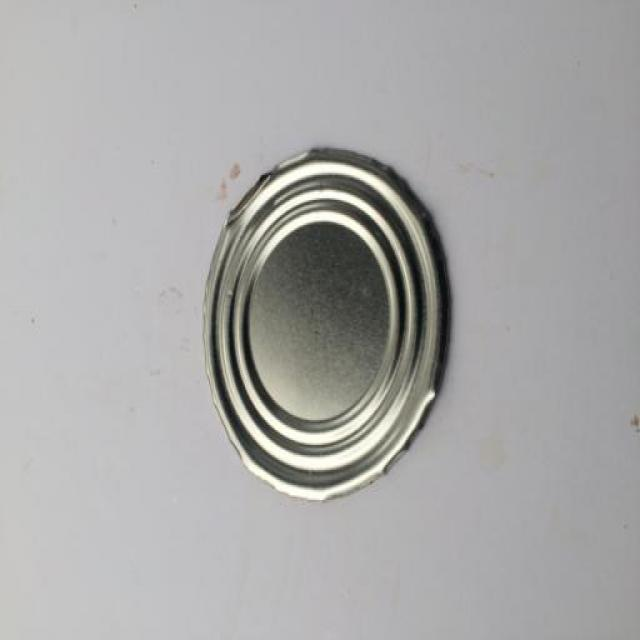metel: (197, 147, 507, 513)
